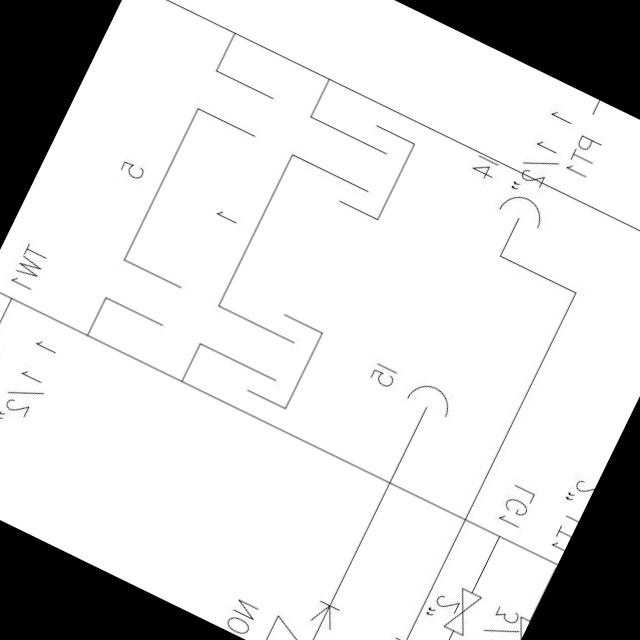GV: (436, 581, 484, 639)
